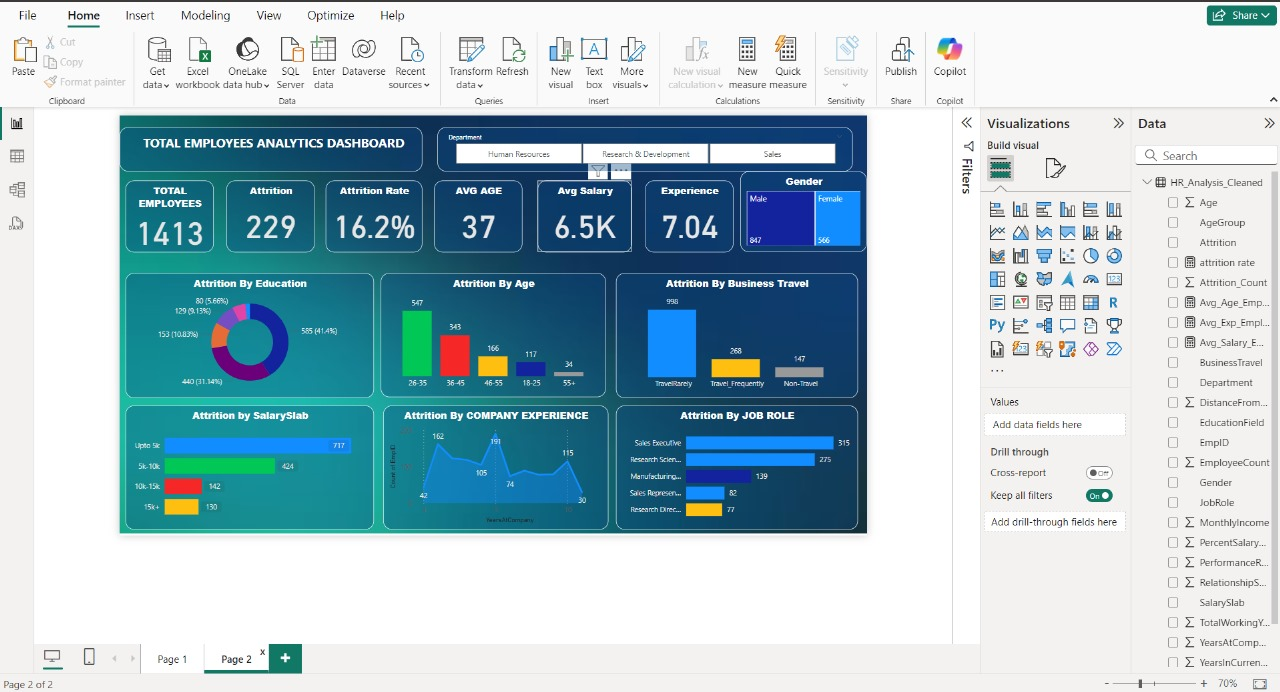

This screenshot's page, from the dashboard's own definition file:
{"tool":"powerbi","page":{"name":"Page 2","canvas":[1280,720],"ordinal":1},"visuals":[{"type":"card","title":"TOTAL EMPLOYEES ","fields":{"Values":["Sum(HR_Analysis_Cleaned.EmployeeCount)"]},"box":[10,111.4,151.4,122.9],"z":0},{"type":"card","title":"Attrition ","fields":{"Values":["Sum(HR_Analysis_Cleaned.Attrition_Count)"]},"box":[182.9,111.4,151.4,122.9],"z":1000},{"type":"card","title":"Attrition Rate","fields":{"Values":["HR_Analysis_Cleaned.attrition rate"]},"box":[352.9,111.4,165.7,122.9],"z":2000},{"type":"card","title":"AVG AGE ","fields":{"Values":["Avg(HR_Analysis_Cleaned.Age)"]},"box":[538.6,111.4,151.4,122.9],"z":3000},{"type":"card","title":"Avg Salary","fields":{"Values":["Avg(HR_Analysis_Cleaned.MonthlyIncome)"]},"box":[715.7,111.4,161.4,122.9],"z":4000},{"type":"card","title":"Experience ","fields":{"Values":["Avg(HR_Analysis_Cleaned.YearsAtCompany)"]},"box":[900,111.4,151.4,122.9],"z":5000},{"type":"donutChart","title":"Attrition By Education ","fields":{"Category":["HR_Analysis_Cleaned.EducationField"],"Y":["CountNonNull(HR_Analysis_Cleaned.EmpID)"]},"box":[10,270,425.7,214.3],"z":6000},{"type":"barChart","title":"Attrition by SalarySlab","fields":{"Y":["CountNonNull(HR_Analysis_Cleaned.EmpID)"],"Category":["HR_Analysis_Cleaned.SalarySlab"]},"box":[10,497.1,425.7,212.9],"z":7000},{"type":"textbox","box":[0,20,518.6,75.7],"z":8000},{"type":"slicer","fields":{"Values":["HR_Analysis_Cleaned.Department"]},"box":[544.3,20,711.4,75.7],"z":9000},{"type":"treemap","title":"Gender ","fields":{"Group":["HR_Analysis_Cleaned.Gender"],"Values":["CountNonNull(HR_Analysis_Cleaned.EmpID)"]},"box":[1062.9,95.7,217.1,138.6],"z":10000},{"type":"columnChart","title":"Attrition By Business Travel","fields":{"Category":["HR_Analysis_Cleaned.BusinessTravel"],"Y":["CountNonNull(HR_Analysis_Cleaned.EmpID)"]},"box":[850,270,414.3,214.3],"z":11000},{"type":"barChart","title":"Attrition By JOB ROLE","fields":{"Category":["HR_Analysis_Cleaned.JobRole"],"Y":["CountNonNull(HR_Analysis_Cleaned.EmpID)"]},"box":[850,497.1,414.3,212.9],"z":12000},{"type":"areaChart","title":"Attrition By COMPANY EXPERIENCE ","fields":{"Category":["HR_Analysis_Cleaned.YearsAtCompany"],"Y":["CountNonNull(HR_Analysis_Cleaned.EmpID)"]},"box":[451.4,497.1,385.7,212.9],"z":13000},{"type":"columnChart","title":"Attrition By Age","fields":{"Category":["HR_Analysis_Cleaned.AgeGroup"],"Y":["CountNonNull(HR_Analysis_Cleaned.EmpID)"]},"box":[447.1,270,385.7,212.9],"z":14000}]}

Visuals, with their boxes on the page's 1280x720 design canvas (x1, y1, x2, y2). These are canvas units, not pixel positions in the 1280x692 screenshot, which may show the page scaled, cropped or inside an application window:
"TOTAL EMPLOYEES " card: x1=10, y1=111, x2=161, y2=234
"Attrition " card: x1=183, y1=111, x2=334, y2=234
"Attrition Rate" card: x1=353, y1=111, x2=519, y2=234
"AVG AGE " card: x1=539, y1=111, x2=690, y2=234
"Avg Salary" card: x1=716, y1=111, x2=877, y2=234
"Experience " card: x1=900, y1=111, x2=1051, y2=234
"Attrition By Education " donutChart: x1=10, y1=270, x2=436, y2=484
"Attrition by SalarySlab" barChart: x1=10, y1=497, x2=436, y2=710
textbox: x1=0, y1=20, x2=519, y2=96
slicer - HR_Analysis_Cleaned.Department: x1=544, y1=20, x2=1256, y2=96
"Gender " treemap: x1=1063, y1=96, x2=1280, y2=234
"Attrition By Business Travel" columnChart: x1=850, y1=270, x2=1264, y2=484
"Attrition By JOB ROLE" barChart: x1=850, y1=497, x2=1264, y2=710
"Attrition By COMPANY EXPERIENCE " areaChart: x1=451, y1=497, x2=837, y2=710
"Attrition By Age" columnChart: x1=447, y1=270, x2=833, y2=483
